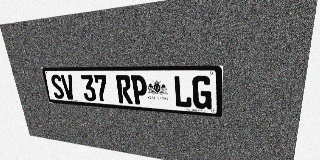3: (80, 75, 97, 101)
7: (93, 75, 110, 102)
G: (192, 76, 212, 110)
L: (173, 75, 192, 108)
P: (130, 75, 148, 105)
R: (116, 75, 133, 104)
S: (50, 75, 65, 99)
V: (60, 75, 76, 100)
